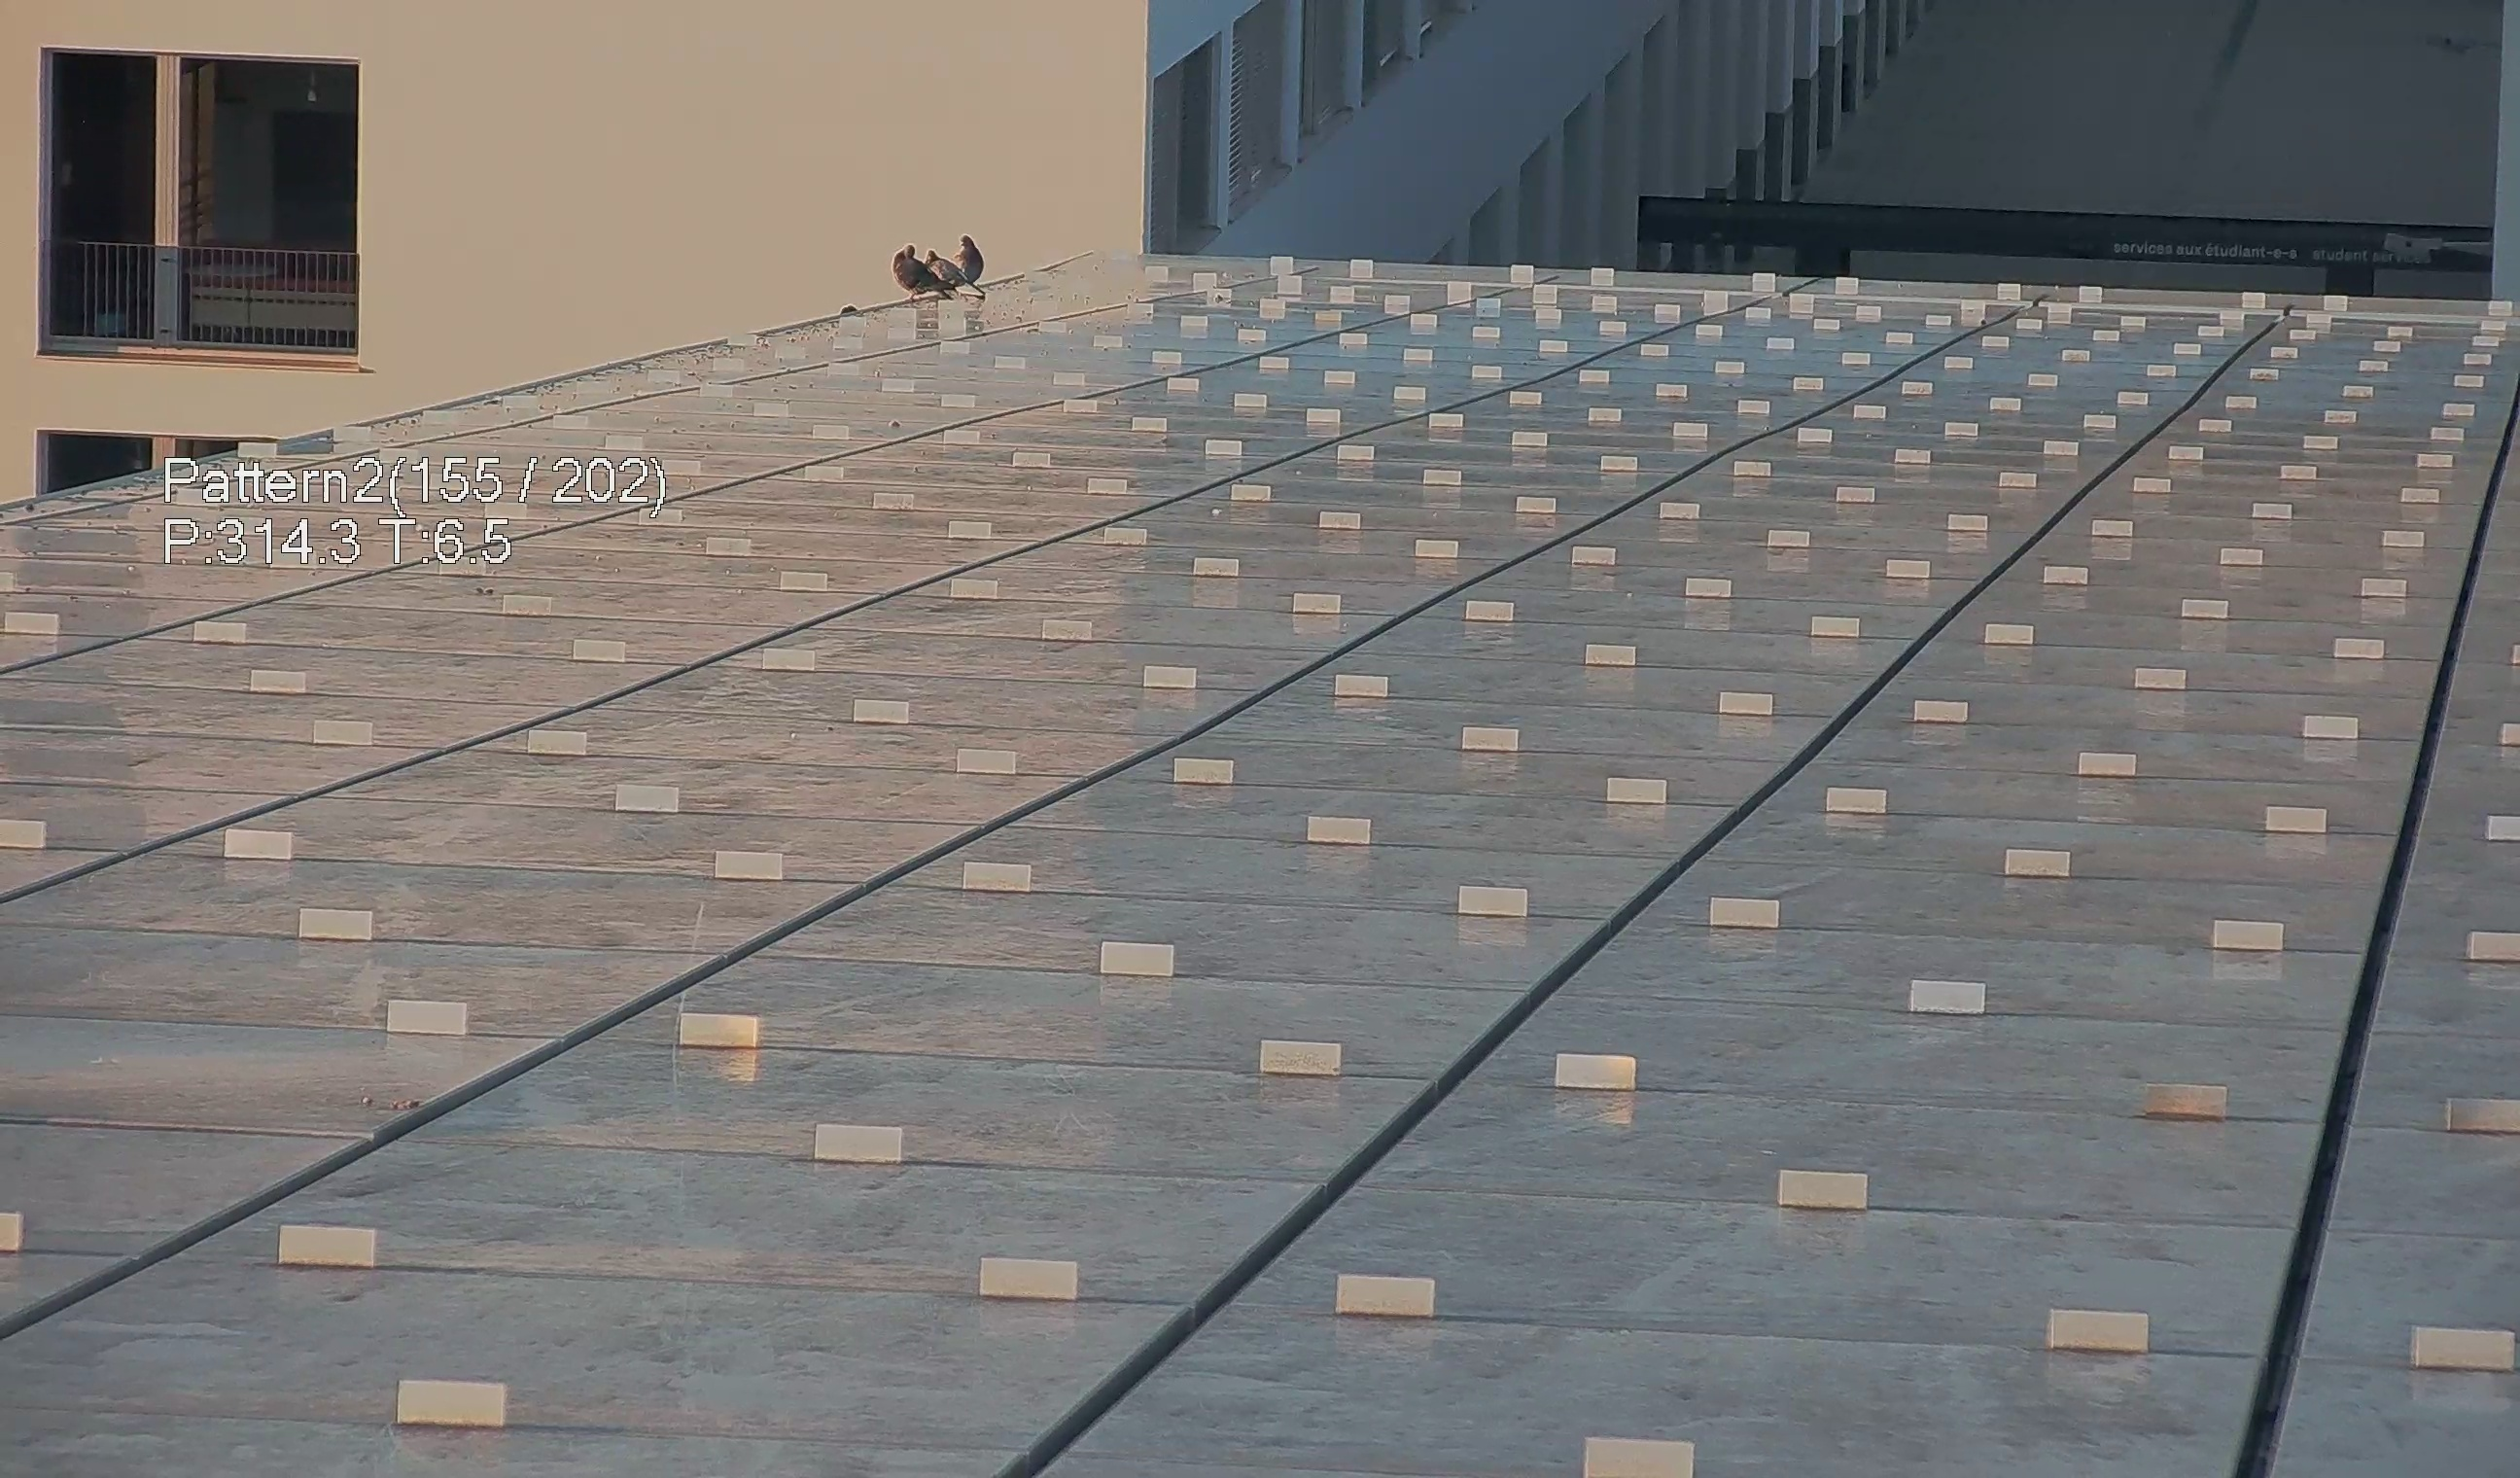Pigeon: (881, 246, 958, 303), (925, 248, 987, 297), (951, 232, 988, 289)
